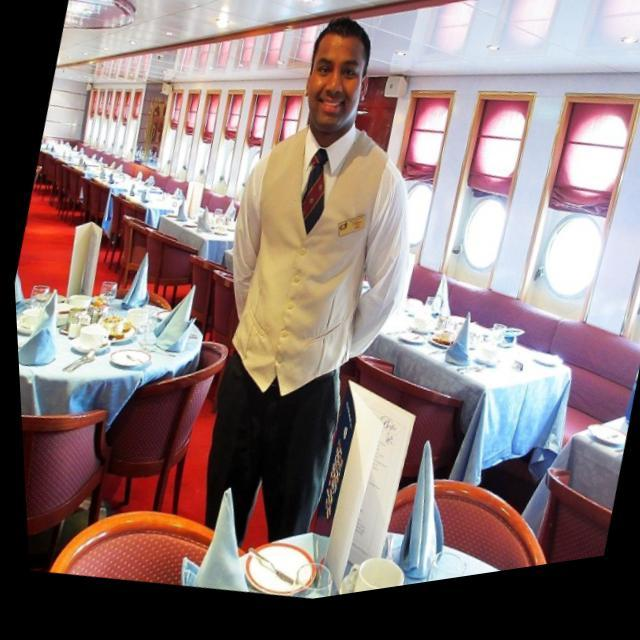Nonhelmet: (298, 10, 373, 136)
